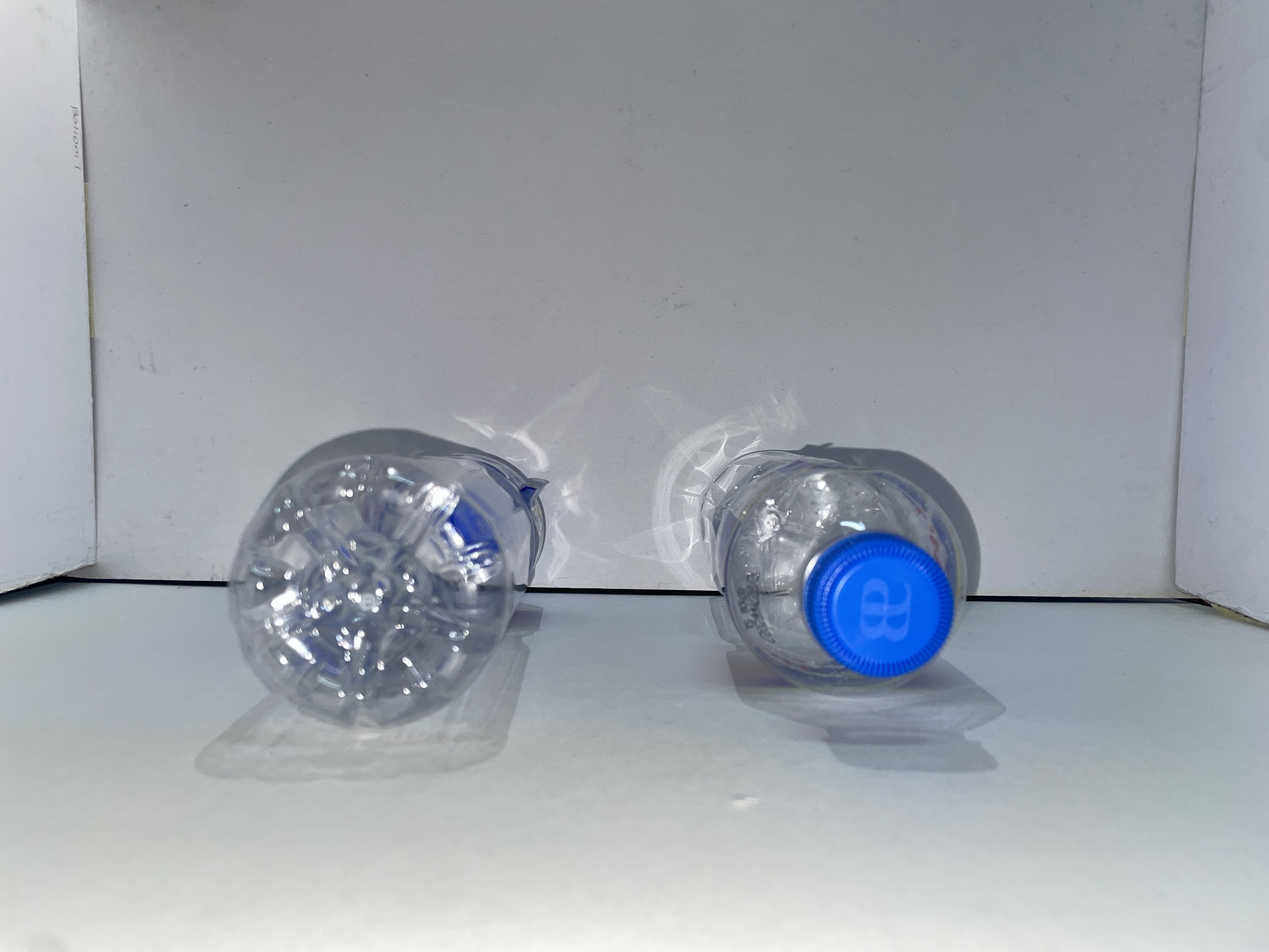Summit 500mL: (230, 430, 545, 727), (700, 451, 966, 694)
